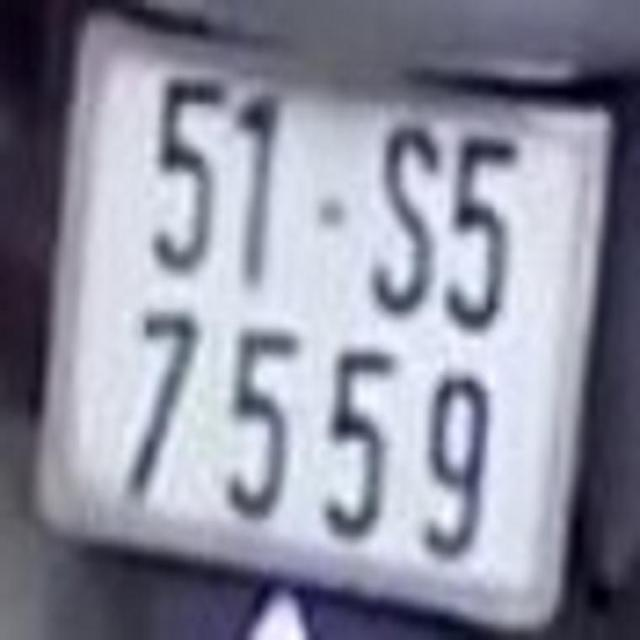1: (229, 96, 286, 287)
5: (144, 79, 220, 267), (227, 324, 294, 526), (448, 130, 515, 328), (328, 348, 390, 540)
7: (120, 311, 202, 499)
9: (422, 367, 487, 556)
S: (373, 121, 435, 314)
